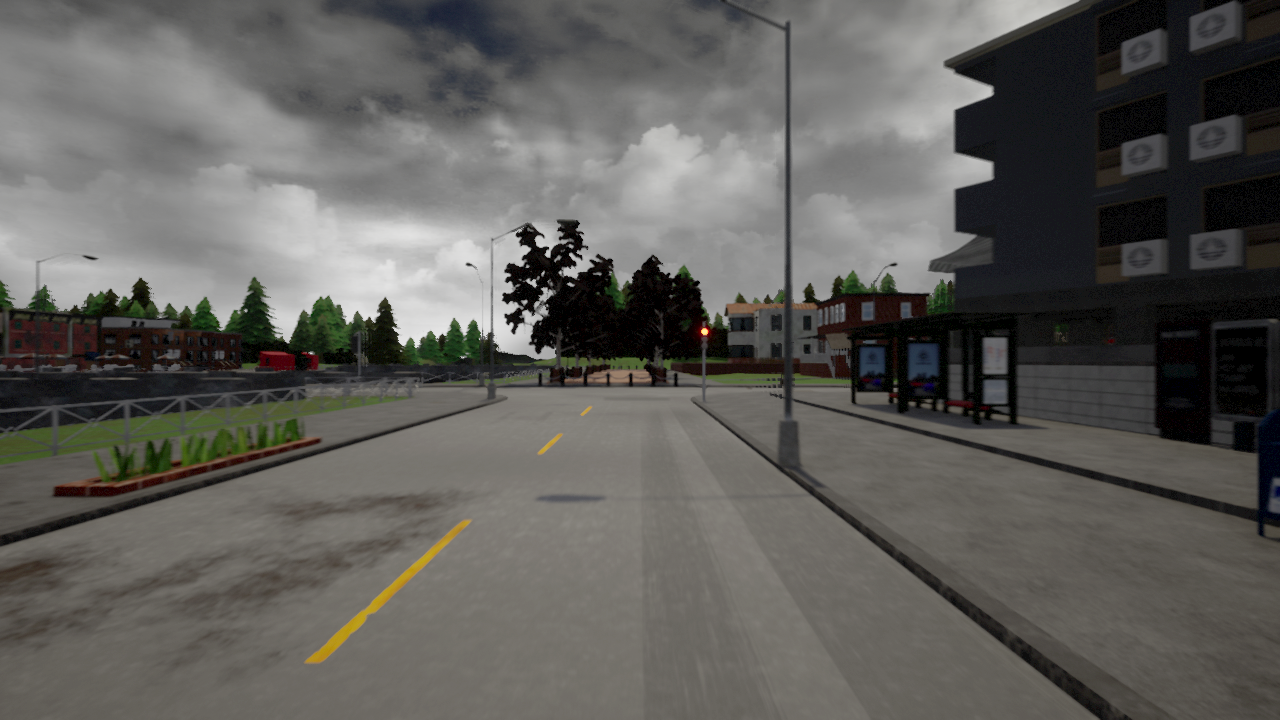red: (699, 327, 710, 349)
